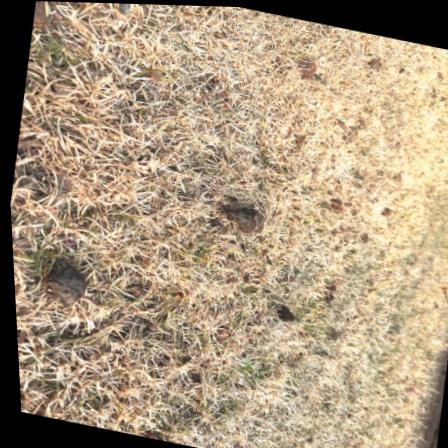dog-poop: (29, 250, 92, 307), (211, 184, 270, 237)
